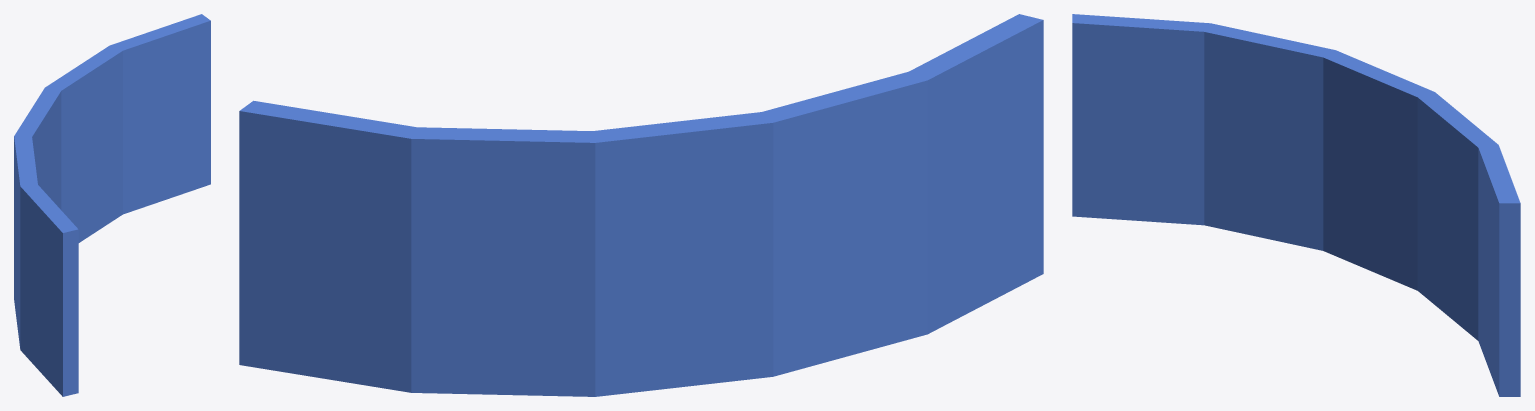
Rendered from TopPadded_Flat_Curve_Round_Inner_Collision.fbx.
3 renders of one model, left to right at view 1: azimuth 30°, elevation 25°; view 2: azimuth 150°, elevation 25°; view 3: azimuth 270°, elevation 25°, orthographic. The views are drawn at different scales.
Visible parts, largest first — view 1: TopPadded_Flat_Curve_Round_Inner_Collision; view 2: TopPadded_Flat_Curve_Round_Inner_Collision; view 3: TopPadded_Flat_Curve_Round_Inner_Collision.
Part boxes in pixels (x1=…): TopPadded_Flat_Curve_Round_Inner_Collision: x1=14, y1=14, x2=210, y2=396; TopPadded_Flat_Curve_Round_Inner_Collision: x1=239, y1=14, x2=1043, y2=396; TopPadded_Flat_Curve_Round_Inner_Collision: x1=1072, y1=14, x2=1520, y2=396.
Bounding box in the file's own units: 420 × 200 × 420.
